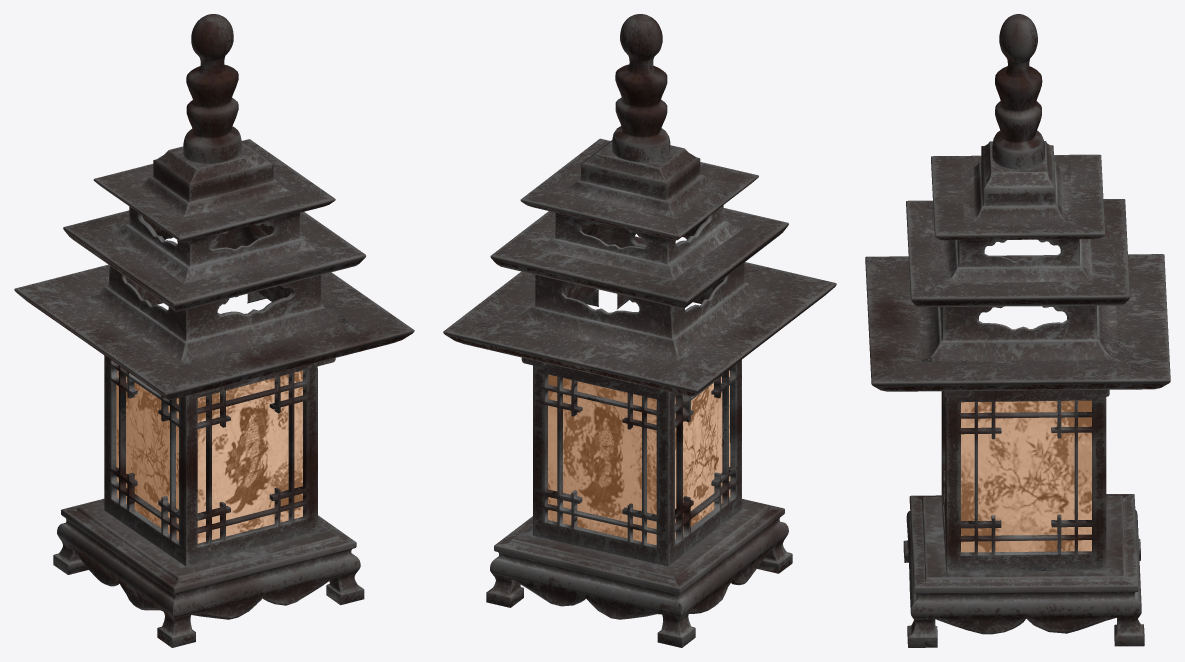
The model's file is japanese_wooden_lamp_pagoda.glb.
3 views of the same model, side by side, from view 1: azimuth 30°, elevation 25°; view 2: azimuth 150°, elevation 25°; view 3: azimuth 270°, elevation 25° (orthographic). The views are drawn at different scales.
Parts seen in each view (by area): view 1: LampTopPiece_low1; view 2: LampTopPiece_low1; view 3: LampTopPiece_low1.
Boxes of the visible parts, bbox=[...] form: LampTopPiece_low1: bbox=[14, 14, 414, 647]; LampTopPiece_low1: bbox=[443, 14, 836, 647]; LampTopPiece_low1: bbox=[865, 14, 1170, 647].
Size of the model in its own units: 0.1246 by 0.2619 by 0.1245.
1 material, 1 textured.
